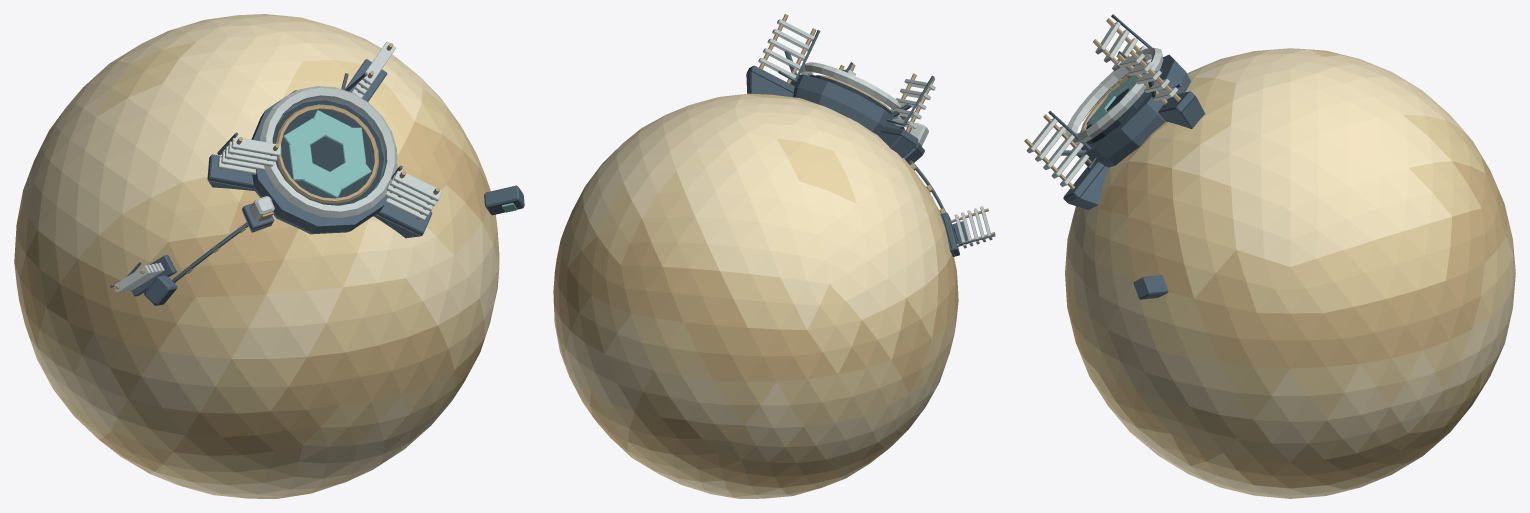
File: Venus.glb
3 views of the same model, side by side, from view 1: azimuth 30°, elevation 25°; view 2: azimuth 150°, elevation 25°; view 3: azimuth 270°, elevation 25° (orthographic). The views are drawn at different scales.
Visible parts, largest first — view 1: S9_Venus • modeled surfaces; view 2: S9_Venus • modeled surfaces; view 3: S9_Venus • modeled surfaces.
Boxes of the visible parts, x1,y1,x2,y2 form: S9_Venus • modeled surfaces: (14,14,524,498); S9_Venus • modeled surfaces: (553,14,995,498); S9_Venus • modeled surfaces: (1024,14,1515,498).
Size of the model in its own units: 1.67 by 1.8 by 1.79.
